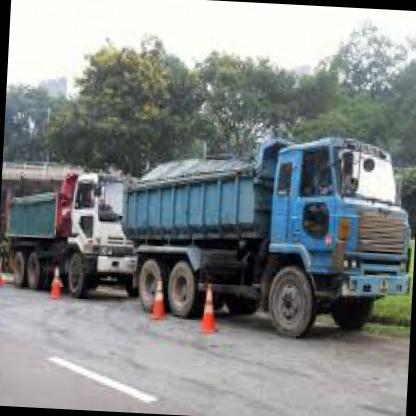truck: (259, 130, 416, 348), (60, 165, 149, 303)
